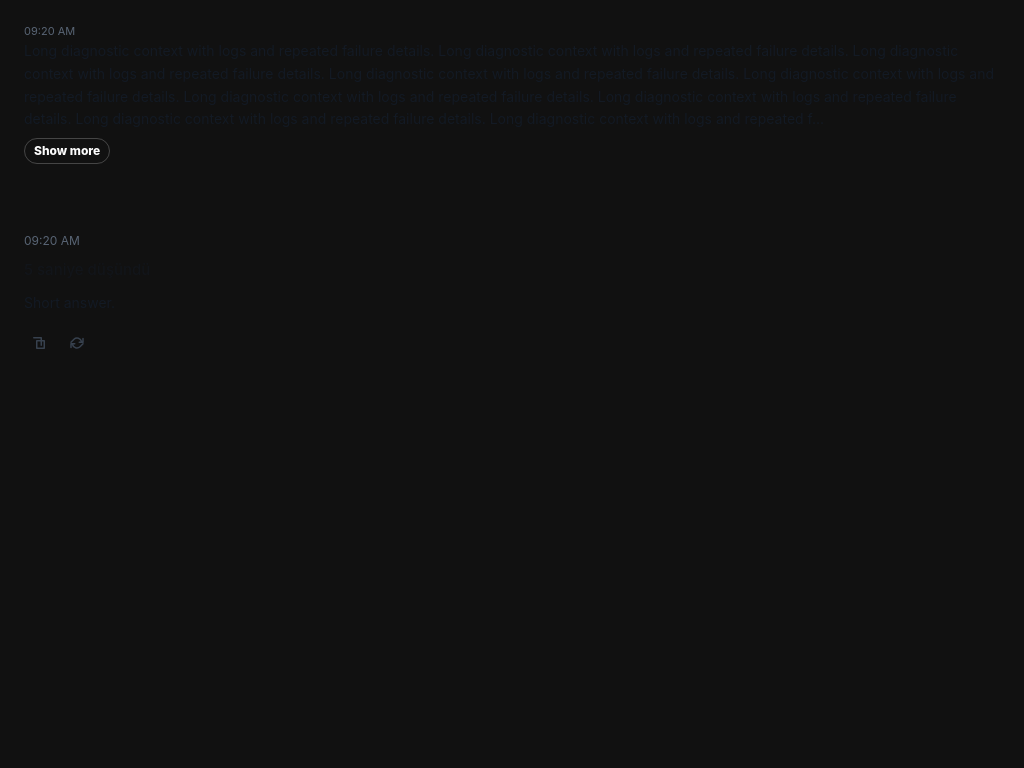
Test: AssistantMessage › collapses very long user messages without hiding the assistant response
Click the button "Show more": (67, 151) [24, 138, 110, 164]
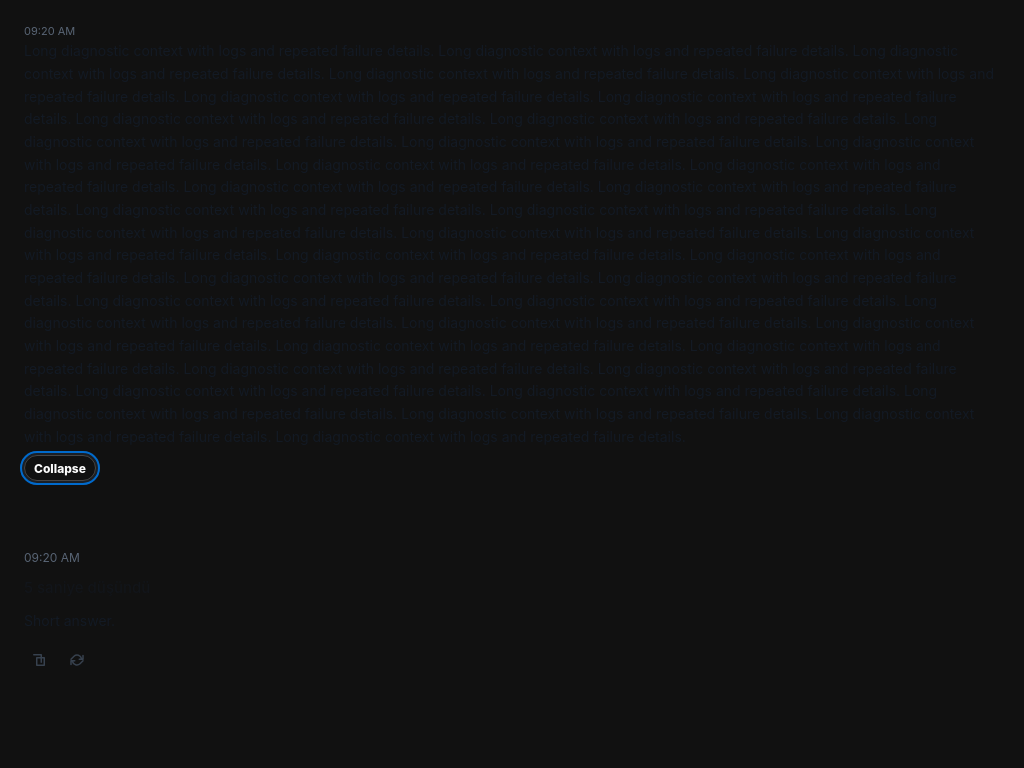
Expected: the button "Collapse" is shown, [24, 455, 96, 481]
